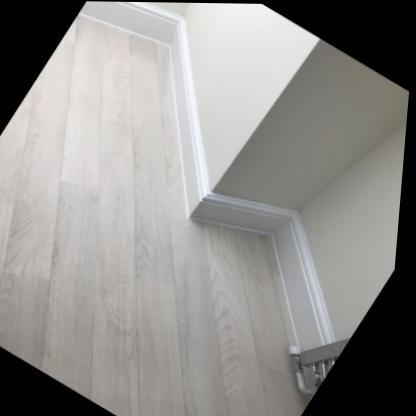Wooden floor: (0, 16, 312, 416)
